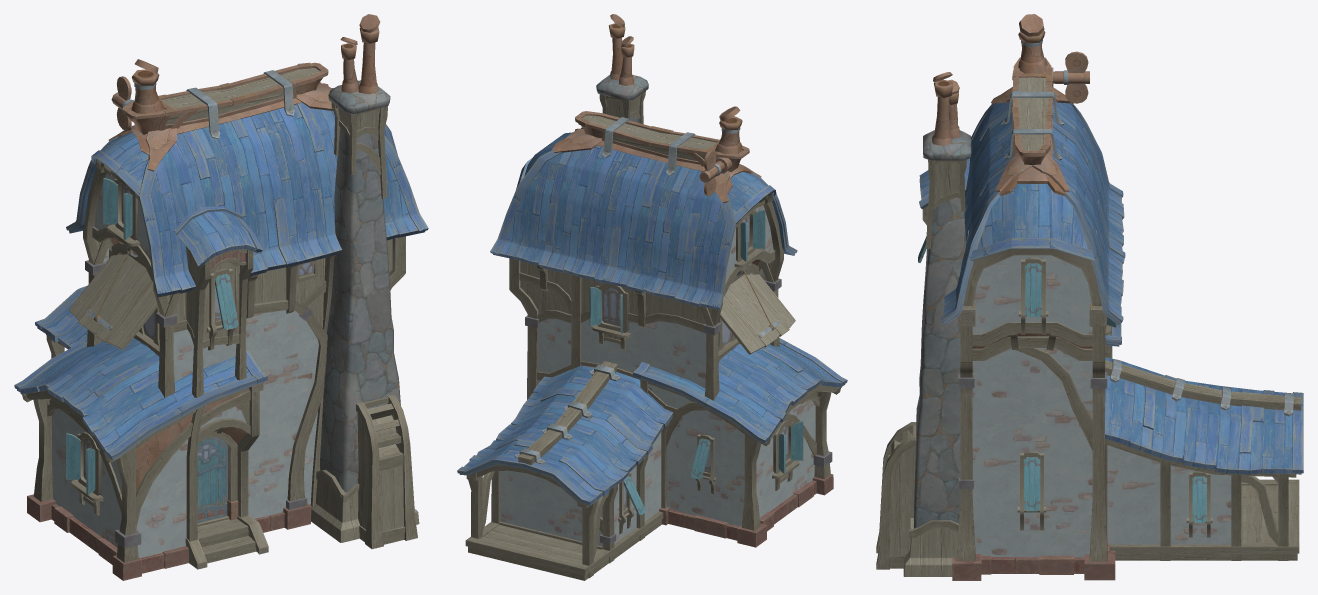
File: Homeworld_Exterior_Fd_Build_YwMinju_02_Lod0.fbx
The picture shows the model from 3 angles, left to right: view 1: azimuth 30°, elevation 25°; view 2: azimuth 150°, elevation 25°; view 3: azimuth 270°, elevation 25°; orthographic projection. The views are drawn at different scales.
Parts seen in each view (by area): view 1: Area_Fd_Build_Common_Minju_B_01_Lod0; view 2: Area_Fd_Build_Common_Minju_B_01_Lod0; view 3: Area_Fd_Build_Common_Minju_B_01_Lod0.
Boxes of the visible parts, bbox=[...] form: Area_Fd_Build_Common_Minju_B_01_Lod0: bbox=[14, 14, 428, 580]; Area_Fd_Build_Common_Minju_B_01_Lod0: bbox=[457, 14, 847, 580]; Area_Fd_Build_Common_Minju_B_01_Lod0: bbox=[876, 14, 1303, 580].
Size of what is drawn, in the model's own units: 10.24 by 15.01 by 11.83.
